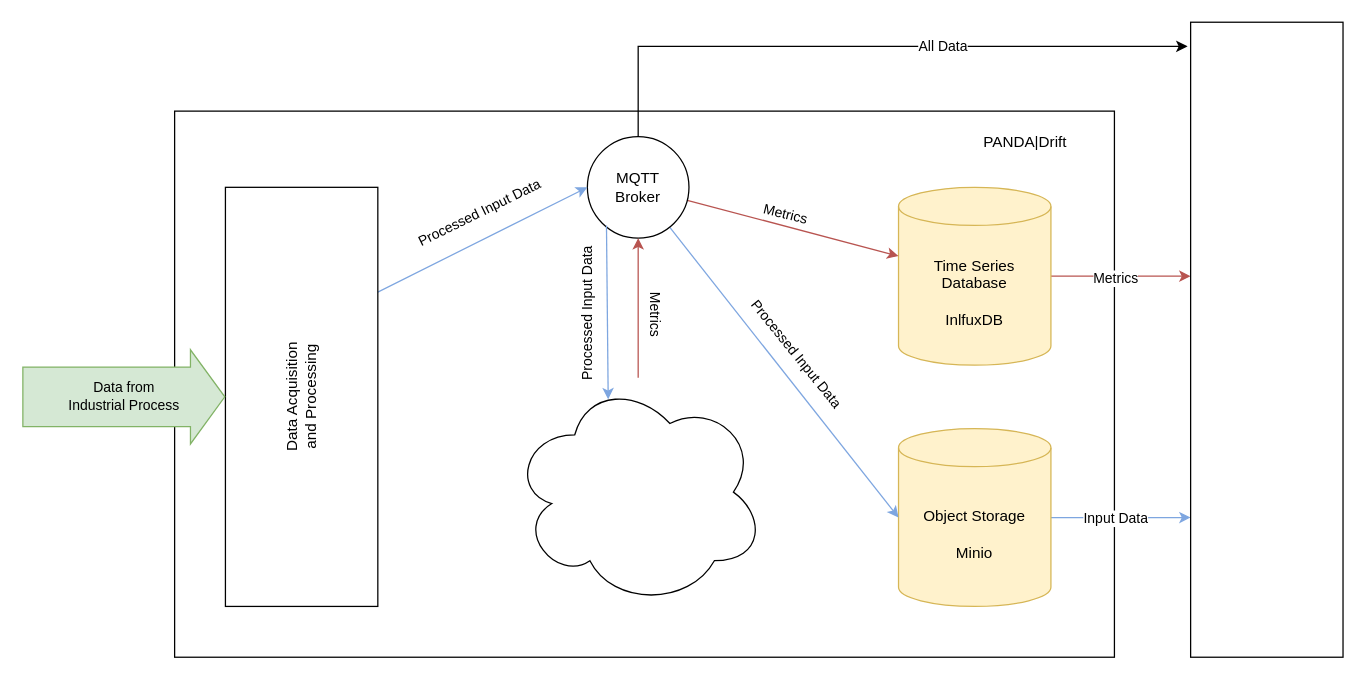
Some shapes in this 1365 by 679 pixel diagram are drawn without their labels. The centre of each missing label's shape, as x and y in pixels:
"AI Services" goes at (x=637, y=491).
"Drift Python Client" goes at (x=1266, y=339).
